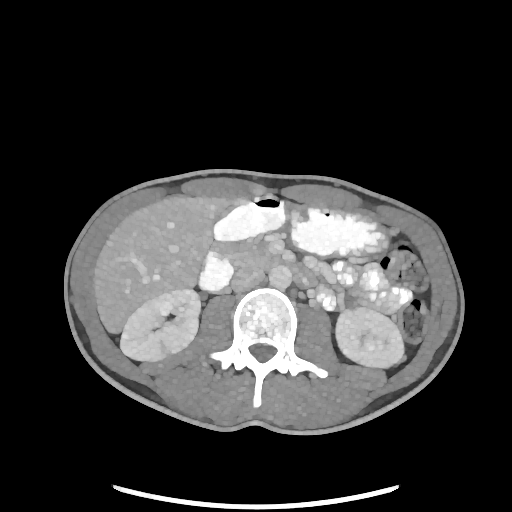Lesion: (156, 337, 172, 357)
